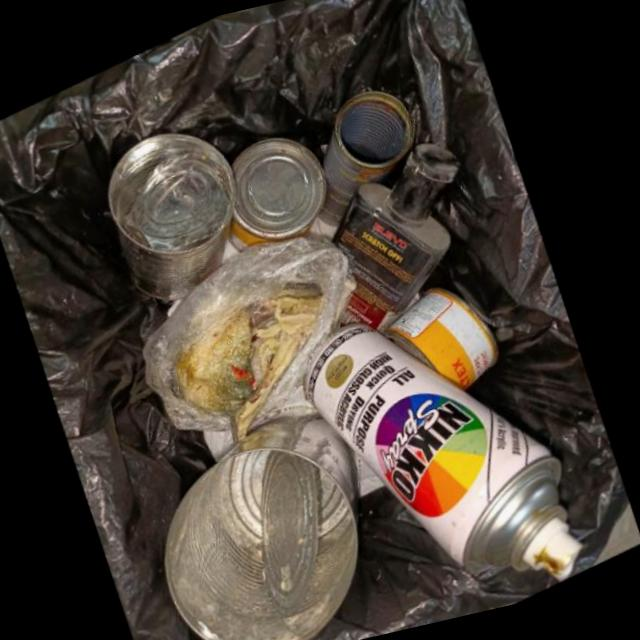chai_nhua: (333, 137, 459, 321)
nhom: (312, 324, 586, 573), (169, 399, 366, 640), (108, 127, 238, 298), (319, 87, 417, 222), (385, 286, 504, 387), (230, 134, 328, 245)
thuc_an_thua: (174, 273, 325, 433)
tui_ni_long: (144, 231, 358, 435)
